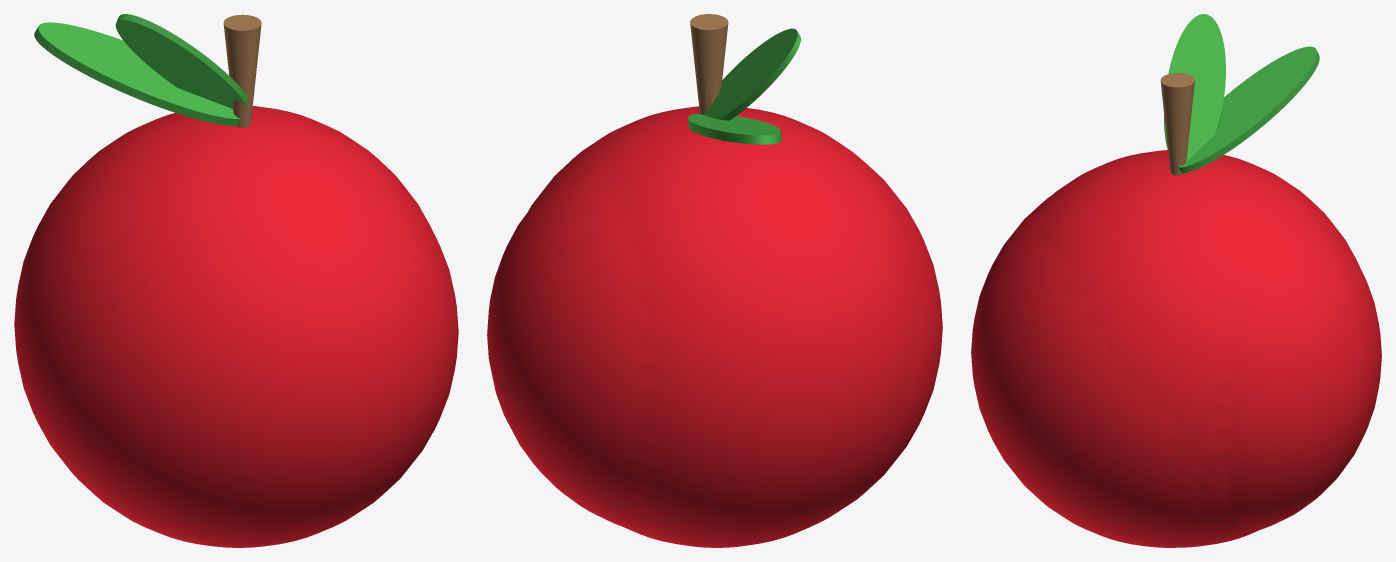
Rendered from Apple.fbx.
3 views of the same model, side by side, from view 1: azimuth 30°, elevation 25°; view 2: azimuth 150°, elevation 25°; view 3: azimuth 270°, elevation 25° (orthographic). The views are drawn at different scales.
Parts seen in each view (by area): view 1: obj_0; view 2: obj_0; view 3: obj_0.
Boxes of the visible parts, x1,y1,x2,y2 form: obj_0: (14, 14, 458, 547); obj_0: (487, 14, 942, 547); obj_0: (971, 14, 1381, 547).
Bounding box in the file's own units: 48 × 63 × 49.49.
